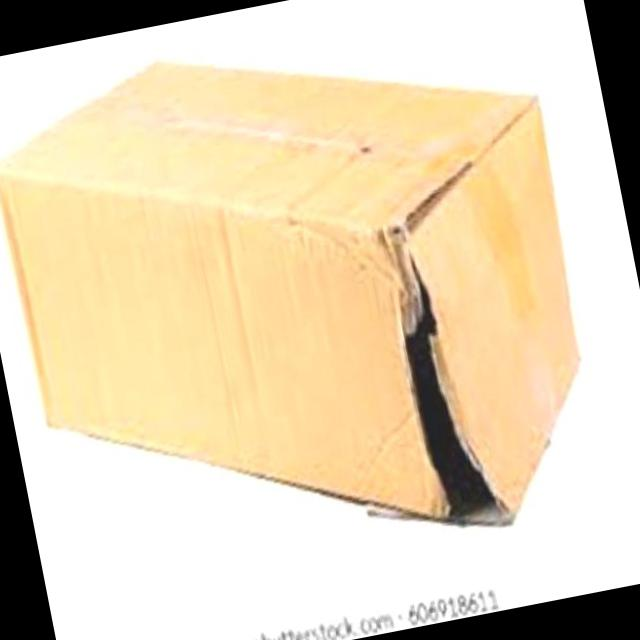box: (94, 205, 578, 558)
